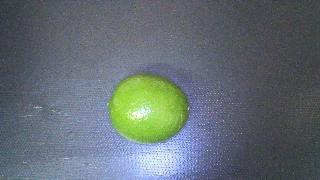EXPORTACION: (108, 73, 190, 144)
